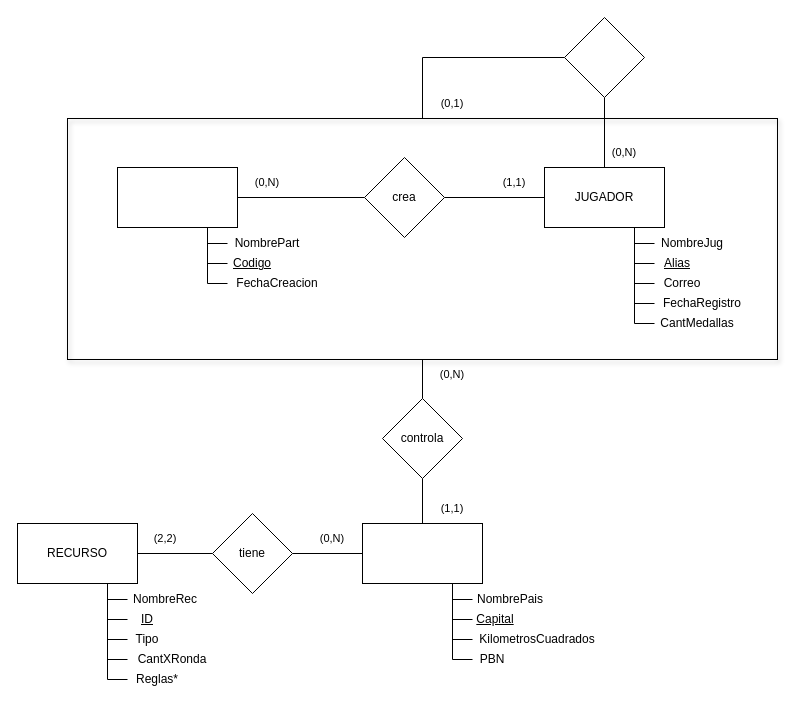
This 801x712 diagram has some shape labels left out. The shapes that lost their labels are listed below. From the top down, each one's centre as x and y in pixels, then its label:
[604,57]: invita
[177,197]: PARTIDA
[422,553]: PAIS
